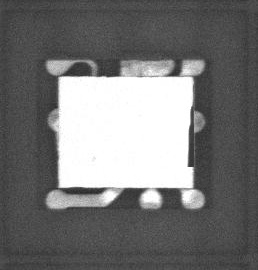DIE_BROKEN: (186, 106, 197, 169)
